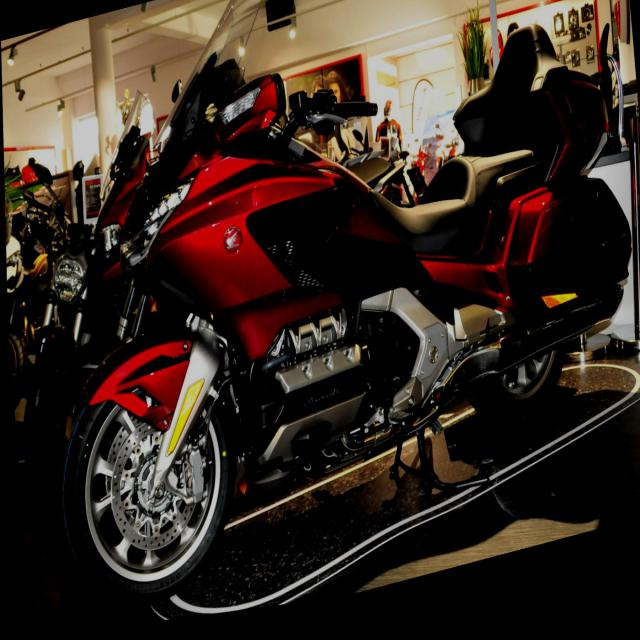Gold Wing: (25, 0, 639, 627)
